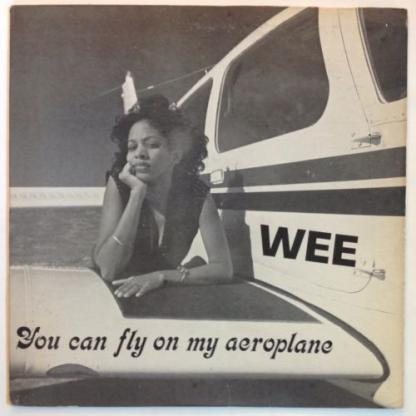CIV_Plane: (46, 5, 411, 362)
